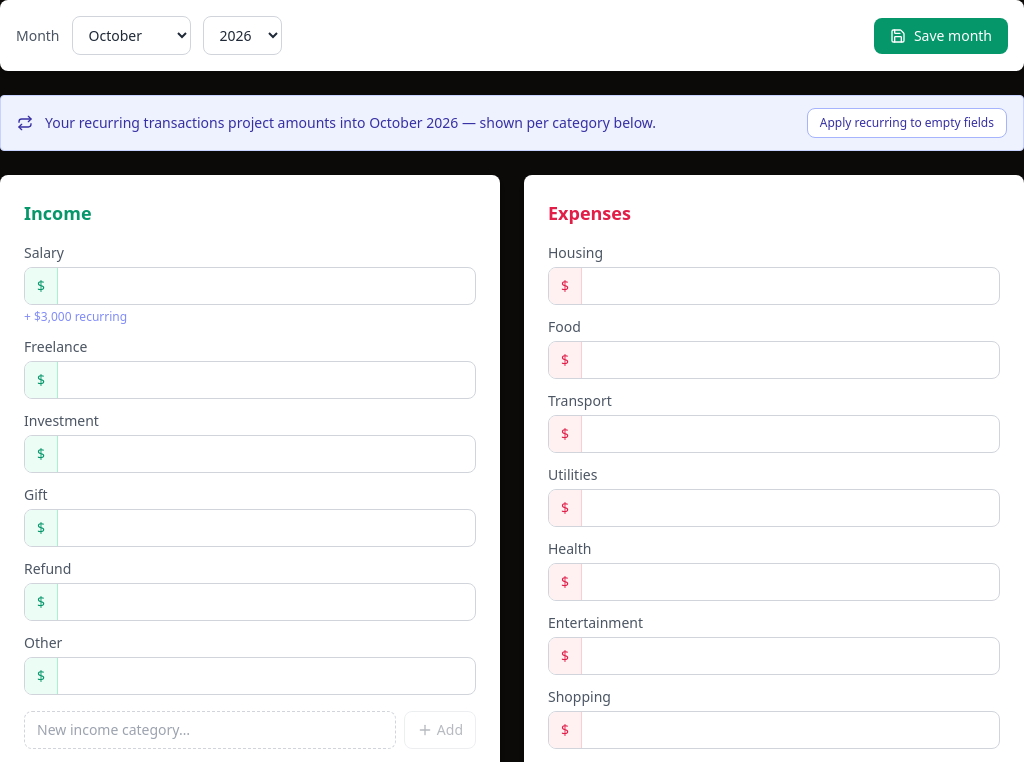
MonthlyEntryPanel — v0.15.2 additions › shows recurring projections read-only and applies them to empty fields
The width and height of the screenshot is (1024, 762).
Check: the text "+ $3,000 recurring" is shown, box [24,308,127,325]
Check: the field labelled "Salary" is empty, box [58,268,475,304]
Click the button "Apply recurring to empty fields". click: point(907, 123)
box: [807,108,1007,138]
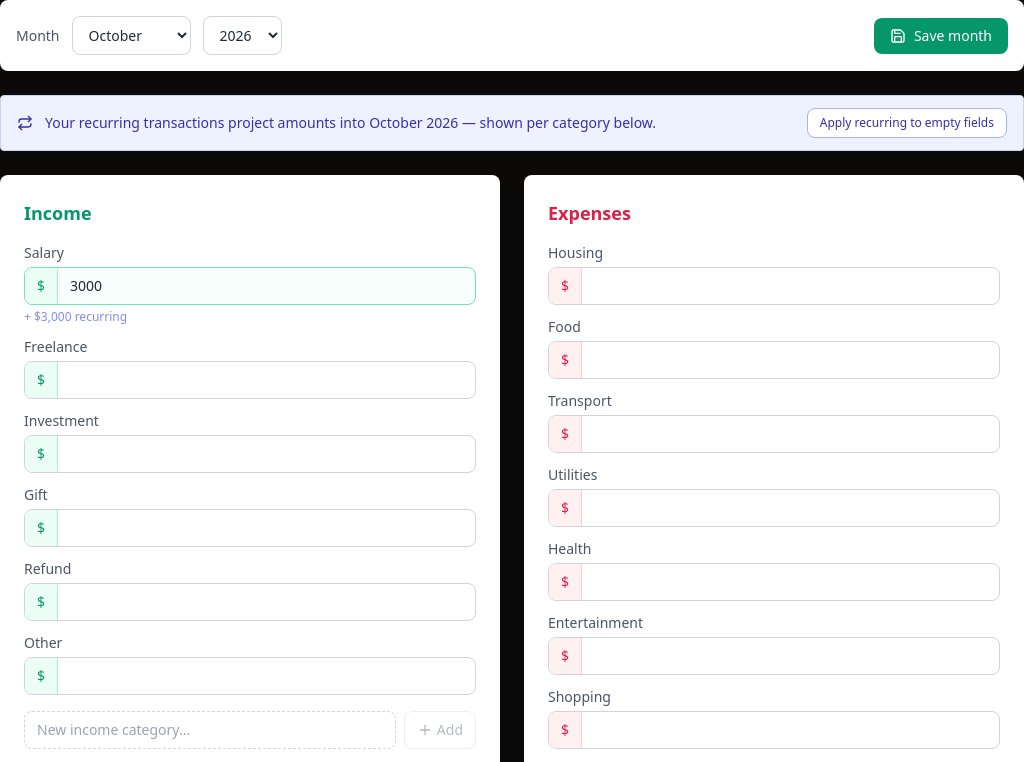
Check: the field labelled "Salary" holds "3000", box [58,268,475,304]
